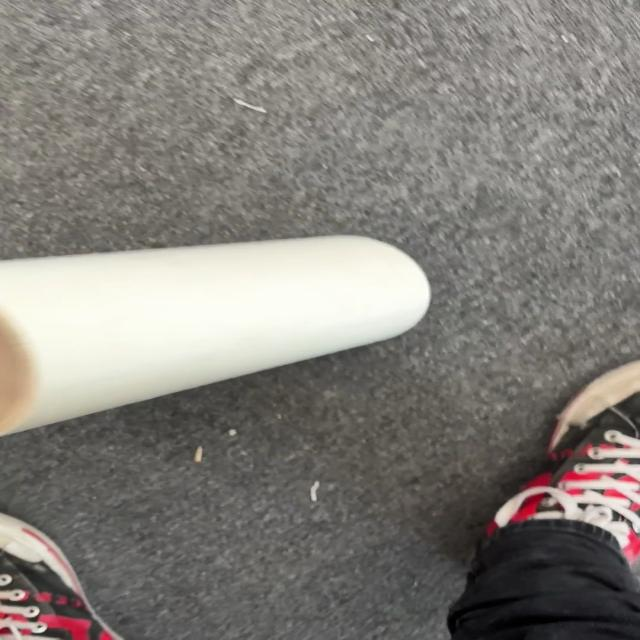Coral: (1, 233, 432, 437)
